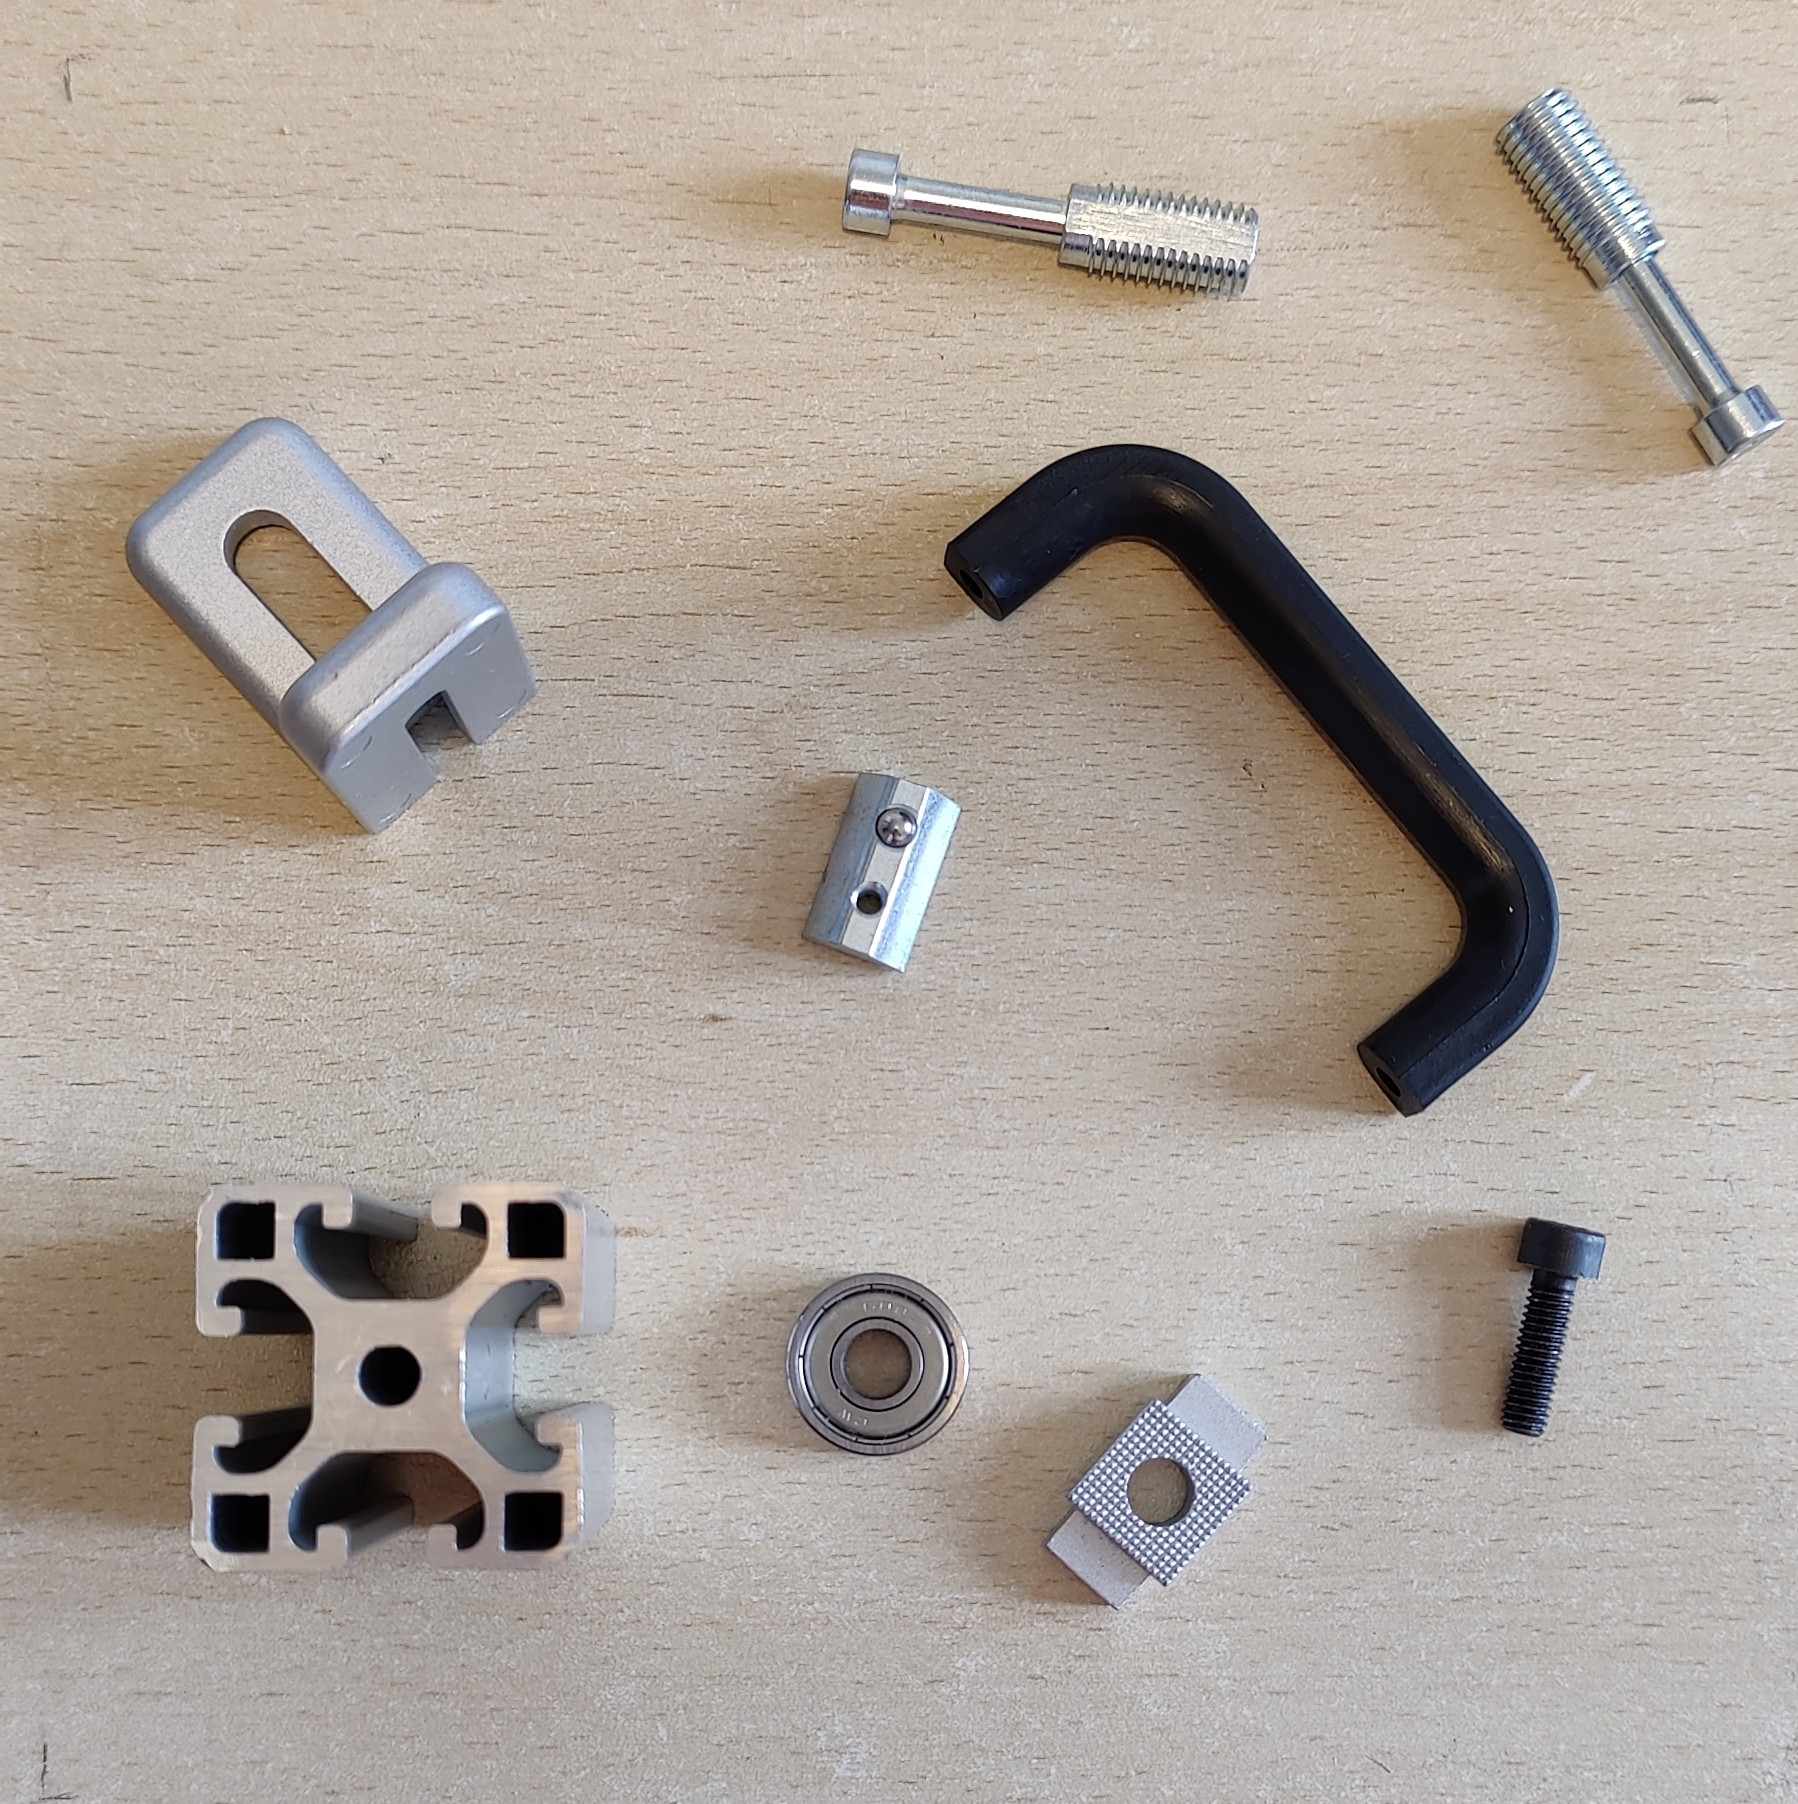Aluminium Extension: (188, 1175, 621, 1578)
Ball Bearing: (784, 1271, 971, 1458)
Multiwinkel: (120, 411, 540, 838)
Pull Handle: (940, 439, 1561, 1119)
Shoulder Socket Head Cap Screw: (1492, 86, 1786, 471), (836, 148, 1261, 305)
Socket Head Cap Screw: (1498, 1215, 1609, 1440)
T Nut Square: (1041, 1374, 1269, 1611)
T Spring Nut: (799, 769, 962, 978)
